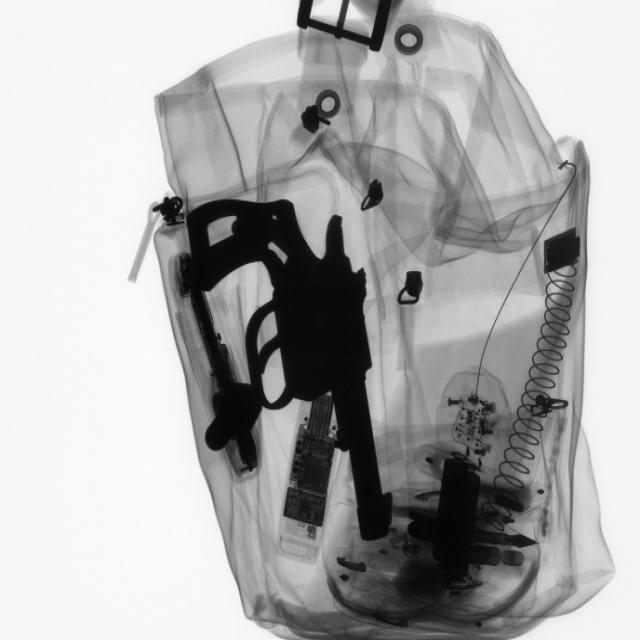GUN: (196, 191, 390, 519)
